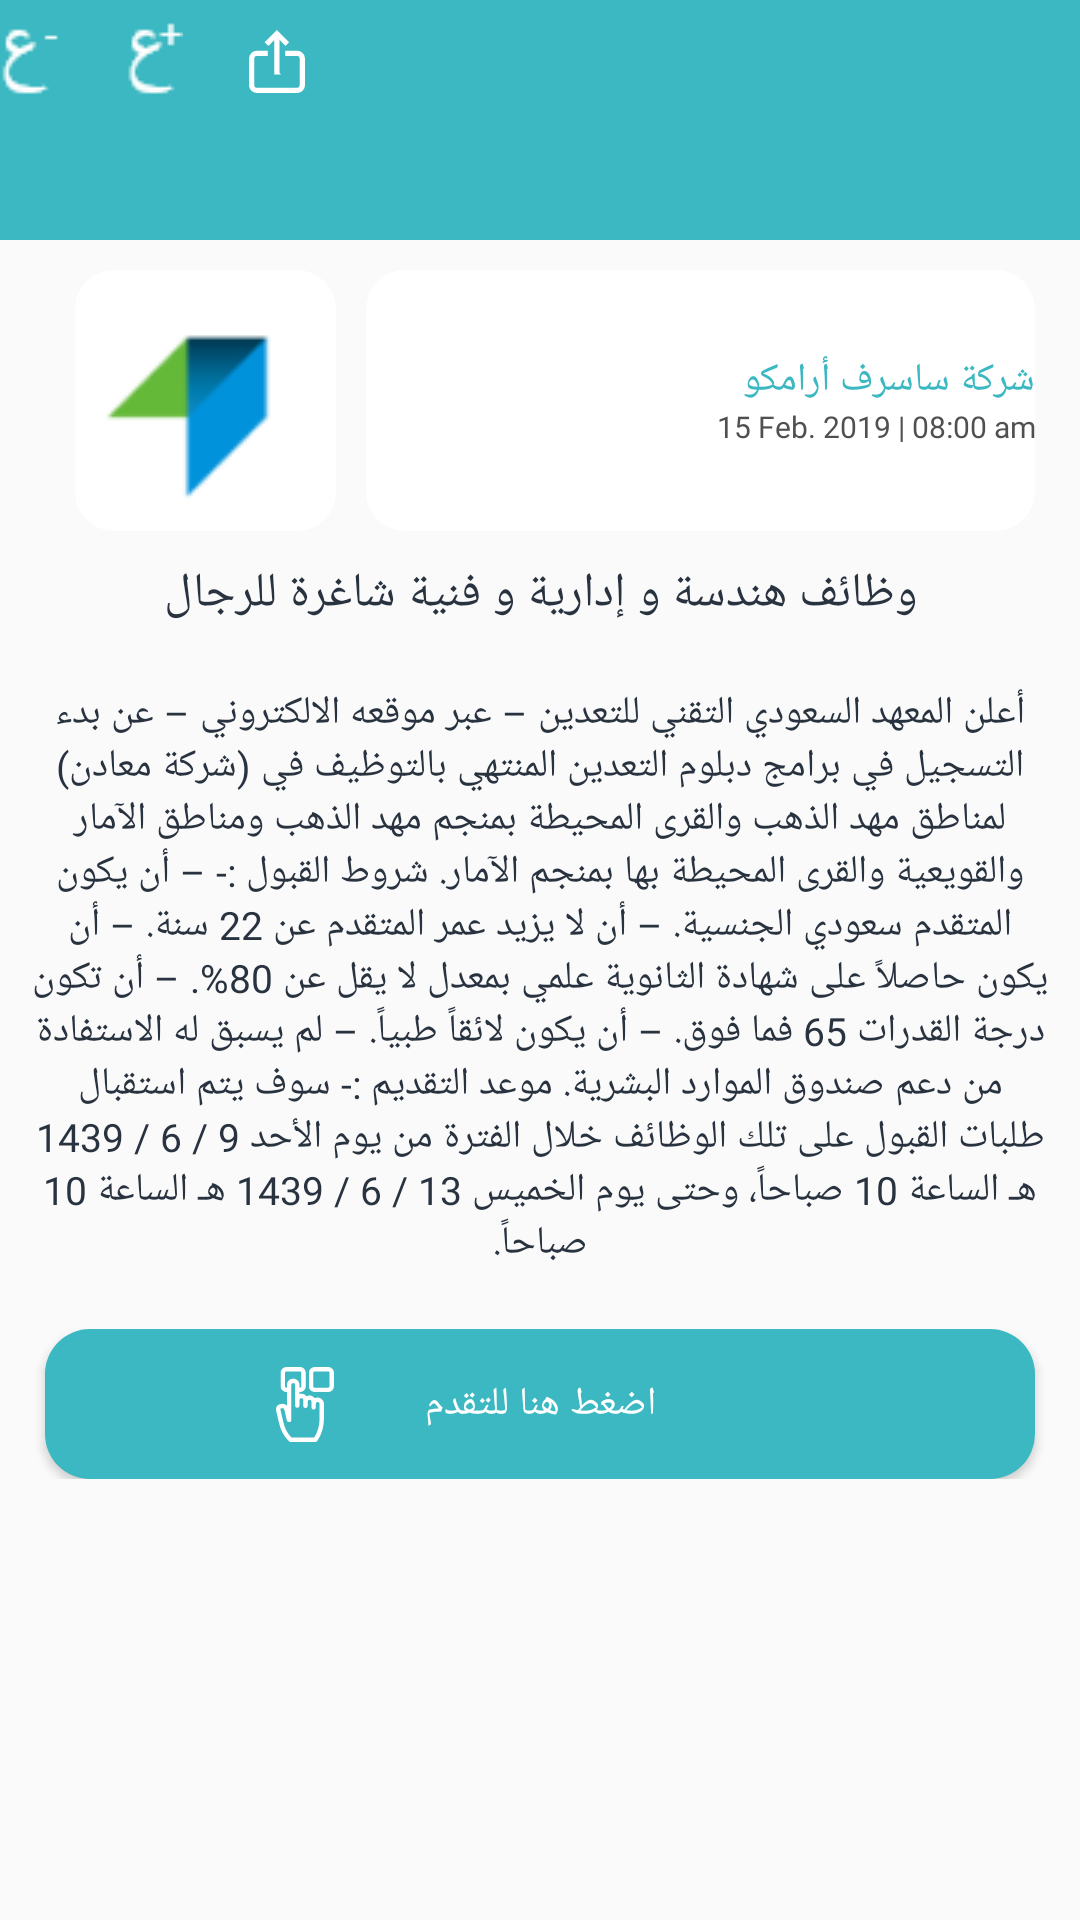

Locate icon controls on the screen. Image size 1080*1920, boxes as (x1, y1, x2, y2).
choice: (276, 1367, 334, 1442)
share: (249, 30, 305, 93)
zoomin: (128, 23, 183, 94)
zoomout: (2, 29, 58, 94)
